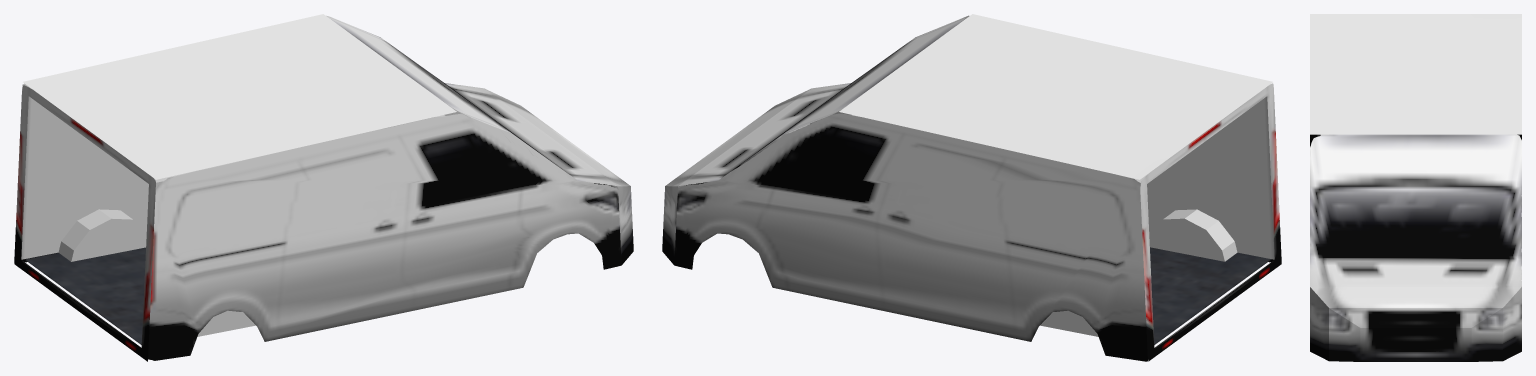
File: van_v1_low_ploy.fbx
3 views of the same model, side by side, from view 1: azimuth 30°, elevation 25°; view 2: azimuth 150°, elevation 25°; view 3: azimuth 270°, elevation 25° (orthographic). The views are drawn at different scales.
Visible parts, largest first — view 1: Van_V1; view 2: Van_V1; view 3: Van_V1.
Part boxes in pixels (x1,y1,x2,y2): Van_V1: (14,14,633,361); Van_V1: (662,14,1281,361); Van_V1: (1310,14,1521,361).
Bounding box in the file's own units: 869 × 329 × 400.
